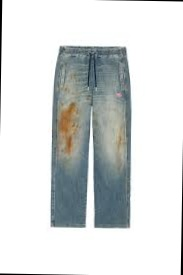earth: (58, 102, 78, 155)
